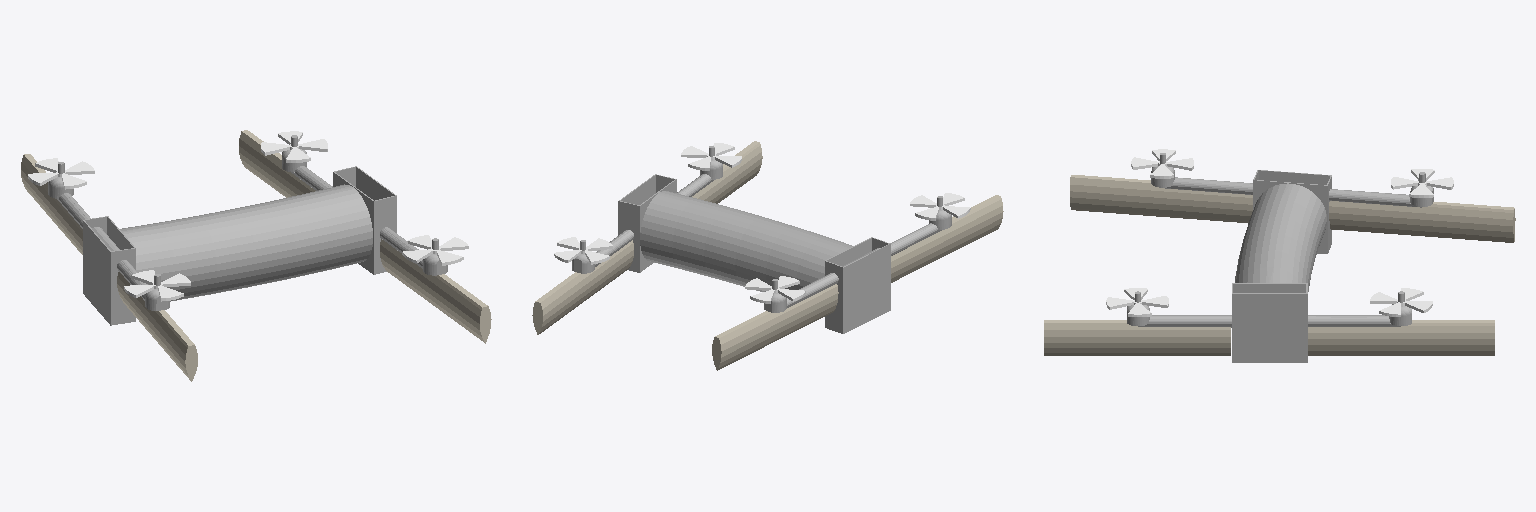
URDF robot description (drone_description):
<?xml version="1.0" encoding="utf-8"?>
<!-- This URDF was automatically created by SolidWorks to URDF Exporter! Originally created by [author] ([email redacted]) 
     Commit Version: 1.5.0-0-g9aa0fdb  Build Version: 1.5.7004.21443
     For more information, please see http://wiki.ros.org/sw_urdf_exporter -->
<robot
  name="drone_description">
  <link
    name="drone_body">
    <inertial>
      <origin
        xyz="0.00037727104002184 2.89864944904331E-05 -0.00750285109539086"
        rpy="0 0 0" />
      <mass
        value="0.357420415627526" />
      <inertia
        ixx="0.000438219852783832"
        ixy="0.000109200110248878"
        ixz="-3.73094379691416E-10"
        iyy="0.00167682905269243"
        iyz="2.35329923558303E-12"
        izz="0.0016915663631846" />
    </inertial>
    <visual>
      <origin
        xyz="0 0 0"
        rpy="0 0 0" />
      <geometry>
        <mesh
          filename="package://drone_description/meshes/drone_body.STL" />
      </geometry>
      <material
        name="">
        <color
          rgba="0.752941176470588 0.752941176470588 0.752941176470588 1" />
      </material>
    </visual>
    <collision>
      <origin
        xyz="0 0 0"
        rpy="0 0 0" />
      <geometry>
        <mesh
          filename="package://drone_description/meshes/drone_body.STL" />
      </geometry>
    </collision>
  </link>
  <link
    name="front_arm">
    <inertial>
      <origin
        xyz="-3.32815637438255E-07 0.00528847069891163 -4.23077371747294E-12"
        rpy="0 0 0" />
      <mass
        value="0.0488863352917366" />
      <inertia
        ixx="0.000132396833896061"
        ixy="-4.99567917336989E-13"
        ixz="-7.39033950292171E-13"
        iyy="0.000132377174520321"
        iyz="-2.47372363052085E-17"
        izz="2.60423234522648E-06" />
    </inertial>
    <visual>
      <origin
        xyz="0 0 0"
        rpy="0 0 0" />
      <geometry>
        <mesh
          filename="package://drone_description/meshes/front_arm.STL" />
      </geometry>
      <material
        name="">
        <color
          rgba="0.752941176470588 0.752941176470588 0.752941176470588 1" />
      </material>
    </visual>
    <collision>
      <origin
        xyz="0 0 0"
        rpy="0 0 0" />
      <geometry>
        <mesh
          filename="package://drone_description/meshes/front_arm.STL" />
      </geometry>
    </collision>
  </link>
  <joint
    name="front_arm_joint"
    type="continuous">
    <origin
      xyz="0.13275334064868 -0.00722327848964719 -0.00540264439683487"
      rpy="1.5707963267949 0 0" />
    <parent
      link="drone_body" />
    <child
      link="front_arm" />
    <axis
      xyz="0 0 -1" />
    <safety_controller
      k_velocity="0" />
  </joint>
  <link
    name="front_right_prop">
    <inertial>
      <origin
        xyz="2.77555756156289E-17 -2.77555756156289E-17 0.0015875"
        rpy="0 0 0" />
      <mass
        value="0.00504005698984341" />
      <inertia
        ixx="1.2716275291741E-06"
        ixy="3.37489689921635E-22"
        ixz="2.04585029939092E-22"
        iyy="1.27162752917409E-06"
        iyz="-1.00319883079063E-23"
        izz="2.53478723759932E-06" />
    </inertial>
    <visual>
      <origin
        xyz="0 0 0"
        rpy="0 0 0" />
      <geometry>
        <mesh
          filename="package://drone_description/meshes/front_right_prop.STL" />
      </geometry>
      <material
        name="">
        <color
          rgba="1 1 1 1" />
      </material>
    </visual>
    <collision>
      <origin
        xyz="0 0 0"
        rpy="0 0 0" />
      <geometry>
        <mesh
          filename="package://drone_description/meshes/front_right_prop.STL" />
      </geometry>
    </collision>
  </link>
  <joint
    name="front_right_prop_joint"
    type="continuous">
    <origin
      xyz="0 0.0190499999622372 0.1325"
      rpy="-1.5707963267949 0 6.29649045572343E-05" />
    <parent
      link="front_arm" />
    <child
      link="front_right_prop" />
    <axis
      xyz="0 0 1" />
    <safety_controller
      k_velocity="0" />
  </joint>
  <link
    name="front_left_prop">
    <inertial>
      <origin
        xyz="0 0 0.0015875"
        rpy="0 0 0" />
      <mass
        value="0.00504005698984341" />
      <inertia
        ixx="1.2716275291741E-06"
        ixy="-4.36751363427999E-22"
        ixz="2.2224016613827E-22"
        iyy="1.2716275291741E-06"
        iyz="2.10983562782874E-23"
        izz="2.53478723759932E-06" />
    </inertial>
    <visual>
      <origin
        xyz="0 0 0"
        rpy="0 0 0" />
      <geometry>
        <mesh
          filename="package://drone_description/meshes/front_left_prop.STL" />
      </geometry>
      <material
        name="">
        <color
          rgba="1 1 1 1" />
      </material>
    </visual>
    <collision>
      <origin
        xyz="0 0 0"
        rpy="0 0 0" />
      <geometry>
        <mesh
          filename="package://drone_description/meshes/front_left_prop.STL" />
      </geometry>
    </collision>
  </link>
  <joint
    name="front_left_prop_joint"
    type="continuous">
    <origin
      xyz="0 0.0190499999622375 -0.1325"
      rpy="-1.5707963267949 0 6.29649045572343E-05" />
    <parent
      link="front_arm" />
    <child
      link="front_left_prop" />
    <axis
      xyz="0 0 1" />
    <safety_controller
      k_velocity="0" />
  </joint>
  <link
    name="front_right_wing">
    <inertial>
      <origin
        xyz="-2.56871427684047E-07 -6.69619957455181E-07 8.55690921422909E-05"
        rpy="0 0 0" />
      <mass
        value="0.0106409229155552" />
      <inertia
        ixx="3.22240827607208E-05"
        ixy="8.34233188884897E-12"
        ixz="4.40330785279026E-13"
        iyy="1.00346951370682E-06"
        iyz="-2.44420885016909E-21"
        izz="3.14347766518031E-05" />
    </inertial>
    <visual>
      <origin
        xyz="0 0 0"
        rpy="0 0 0" />
      <geometry>
        <mesh
          filename="package://drone_description/meshes/front_right_wing.STL" />
      </geometry>
      <material
        name="">
        <color
          rgba="0.843137254901961 0.815686274509804 0.752941176470588 1" />
      </material>
    </visual>
    <collision>
      <origin
        xyz="0 0 0"
        rpy="0 0 0" />
      <geometry>
        <mesh
          filename="package://drone_description/meshes/front_right_wing.STL" />
      </geometry>
    </collision>
  </link>
  <joint
    name="front_right_wing_joint"
    type="fixed">
    <origin
      xyz="0 -0.0170179999662656 0.1325"
      rpy="-1.5707963267949 0 6.29649045571202E-05" />
    <parent
      link="front_arm" />
    <child
      link="front_right_wing" />
    <axis
      xyz="0 0 0" />
    <safety_controller
      k_velocity="0" />
  </joint>
  <link
    name="front_left_wing">
    <inertial>
      <origin
        xyz="2.56846023199975E-07 6.69619957371914E-07 8.55690884140337E-05"
        rpy="0 0 0" />
      <mass
        value="0.0106409229167305" />
      <inertia
        ixx="3.22240827618886E-05"
        ixy="8.34233188911367E-12"
        ixz="-4.43666864148229E-13"
        iyy="1.00346951311838E-06"
        iyz="1.74649412038412E-22"
        izz="3.14347766541992E-05" />
    </inertial>
    <visual>
      <origin
        xyz="0 0 0"
        rpy="0 0 0" />
      <geometry>
        <mesh
          filename="package://drone_description/meshes/front_left_wing.STL" />
      </geometry>
      <material
        name="">
        <color
          rgba="0.843137254901961 0.815686274509804 0.752941176470588 1" />
      </material>
    </visual>
    <collision>
      <origin
        xyz="0 0 0"
        rpy="0 0 0" />
      <geometry>
        <mesh
          filename="package://drone_description/meshes/front_left_wing.STL" />
      </geometry>
    </collision>
  </link>
  <joint
    name="front_left_wing_joint"
    type="fixed">
    <origin
      xyz="0 -0.0170179999662652 -0.1325"
      rpy="-1.5707963267949 0 6.29649045573601E-05" />
    <parent
      link="front_arm" />
    <child
      link="front_left_wing" />
    <axis
      xyz="0 0 0" />
    <safety_controller
      k_velocity="0" />
  </joint>
  <link
    name="back_arm">
    <inertial>
      <origin
        xyz="1.01226756657469E-05 0.00528846104534083 1.66339450026476E-10"
        rpy="0 0 0" />
      <mass
        value="0.0488863353584465" />
      <inertia
        ixx="0.000132396833691044"
        ixy="-3.93802397789225E-11"
        ixz="-7.55545830783203E-13"
        iyy="0.000132377174483336"
        iyz="2.44966822466015E-16"
        izz="2.60423235602468E-06" />
    </inertial>
    <visual>
      <origin
        xyz="0 0 0"
        rpy="0 0 0" />
      <geometry>
        <mesh
          filename="package://drone_description/meshes/back_arm.STL" />
      </geometry>
      <material
        name="">
        <color
          rgba="0.752941176470588 0.752941176470588 0.752941176470588 1" />
      </material>
    </visual>
    <collision>
      <origin
        xyz="0 0 0"
        rpy="0 0 0" />
      <geometry>
        <mesh
          filename="package://drone_description/meshes/back_arm.STL" />
      </geometry>
    </collision>
  </link>
  <joint
    name="back_arm_joint"
    type="continuous">
    <origin
      xyz="-0.13125 0.015874 0.014597"
      rpy="1.5708 0 -0.17453" />
    <parent
      link="drone_body" />
    <child
      link="back_arm" />
    <axis
      xyz="0 0 1" />
    <safety_controller
      k_velocity="0" />
  </joint>
  <link
    name="back_right_prop">
    <inertial>
      <origin
        xyz="0 0 0.0015875"
        rpy="0 0 0" />
      <mass
        value="0.00504005698984341" />
      <inertia
        ixx="1.2716275291741E-06"
        ixy="2.31610571514848E-22"
        ixz="-6.82424005356248E-24"
        iyy="1.2716275291741E-06"
        iyz="1.20367703823537E-22"
        izz="2.53478723759932E-06" />
    </inertial>
    <visual>
      <origin
        xyz="0 0 0"
        rpy="0 0 0" />
      <geometry>
        <mesh
          filename="package://drone_description/meshes/back_right_prop.STL" />
      </geometry>
      <material
        name="">
        <color
          rgba="1 1 1 1" />
      </material>
    </visual>
    <collision>
      <origin
        xyz="0 0 0"
        rpy="0 0 0" />
      <geometry>
        <mesh
          filename="package://drone_description/meshes/back_right_prop.STL" />
      </geometry>
    </collision>
  </link>
  <joint
    name="back_right_prop_joint"
    type="continuous">
    <origin
      xyz="3.64629030858155E-05 0.0190499651038184 0.1325"
      rpy="-1.5707963267949 0 -0.00191406432285098" />
    <parent
      link="back_arm" />
    <child
      link="back_right_prop" />
    <axis
      xyz="0 0 1" />
    <safety_controller
      k_velocity="0" />
  </joint>
  <link
    name="back_left_prop">
    <inertial>
      <origin
        xyz="0 0 0.0015875"
        rpy="0 0 0" />
      <mass
        value="0.00504005698984341" />
      <inertia
        ixx="1.2716275291741E-06"
        ixy="-2.64697796016969E-22"
        ixz="1.28212994945719E-23"
        iyy="1.2716275291741E-06"
        iyz="1.32348898008484E-22"
        izz="2.53478723759932E-06" />
    </inertial>
    <visual>
      <origin
        xyz="0 0 0"
        rpy="0 0 0" />
      <geometry>
        <mesh
          filename="package://drone_description/meshes/back_left_prop.STL" />
      </geometry>
      <material
        name="">
        <color
          rgba="1 1 1 1" />
      </material>
    </visual>
    <collision>
      <origin
        xyz="0 0 0"
        rpy="0 0 0" />
      <geometry>
        <mesh
          filename="package://drone_description/meshes/back_left_prop.STL" />
      </geometry>
    </collision>
  </link>
  <joint
    name="back_left_prop_joint"
    type="continuous">
    <origin
      xyz="3.6463E-05 0.01905 -0.1325"
      rpy="-1.5708 0 -0.0019141" />
    <parent
      link="back_arm" />
    <child
      link="back_left_prop" />
    <axis
      xyz="0 0 1" />
    <safety_controller
      k_velocity="0" />
  </joint>
  <link
    name="back_right_wing">
    <inertial>
      <origin
        xyz="1.21655134022181E-08 0 8.47138140920327E-05"
        rpy="0 0 0" />
      <mass
        value="0.0106410240095179" />
      <inertia
        ixx="3.22240827652041E-05"
        ixy="8.34233189020555E-12"
        ixz="4.93419365802072E-13"
        iyy="1.00346951237549E-06"
        iyz="-9.95408469631E-22"
        izz="3.14347766576976E-05" />
    </inertial>
    <visual>
      <origin
        xyz="0 0 0"
        rpy="0 0 0" />
      <geometry>
        <mesh
          filename="package://drone_description/meshes/back_right_wing.STL" />
      </geometry>
      <material
        name="">
        <color
          rgba="0.843137254901961 0.815686274509804 0.752941176470588 1" />
      </material>
    </visual>
    <collision>
      <origin
        xyz="0 0 0"
        rpy="0 0 0" />
      <geometry>
        <mesh
          filename="package://drone_description/meshes/back_right_wing.STL" />
      </geometry>
    </collision>
  </link>
  <joint
    name="back_right_wing_joint"
    type="fixed">
    <origin
      xyz="-3.25735267566463E-05 -0.0170179688260777 0.1325"
      rpy="-1.5707963267949 0 -0.00191406432285109" />
    <parent
      link="back_arm" />
    <child
      link="back_right_wing" />
    <axis
      xyz="0 0 0" />
    <safety_controller
      k_velocity="0" />
  </joint>
  <link
    name="back_left_wing">
    <inertial>
      <origin
        xyz="-1.13069331952875E-08 -5.55111512312578E-17 8.47139273855986E-05"
        rpy="0 0 0" />
      <mass
        value="0.0106410239738009" />
      <inertia
        ixx="3.22240827297183E-05"
        ixy="8.34233188905411E-12"
        ixz="-3.9203650451198E-13"
        iyy="1.00346953026033E-06"
        iyz="-1.47074005381635E-21"
        izz="3.14347765848837E-05" />
    </inertial>
    <visual>
      <origin
        xyz="0 0 0"
        rpy="0 0 0" />
      <geometry>
        <mesh
          filename="package://drone_description/meshes/back_left_wing.STL" />
      </geometry>
      <material
        name="">
        <color
          rgba="0.843137254901961 0.815686274509804 0.752941176470588 1" />
      </material>
    </visual>
    <collision>
      <origin
        xyz="0 0 0"
        rpy="0 0 0" />
      <geometry>
        <mesh
          filename="package://drone_description/meshes/back_left_wing.STL" />
      </geometry>
    </collision>
  </link>
  <joint
    name="back_left_wing_joint"
    type="fixed">
    <origin
      xyz="-3.25735267566463E-05 -0.0170179688260778 -0.1325"
      rpy="-1.5707963267949 0 -0.00191406432285109" />
    <parent
      link="back_arm" />
    <child
      link="back_left_wing" />
    <axis
      xyz="0 0 0" />
    <safety_controller
      k_velocity="0" />
  </joint>
</robot>

--- Facts derived from the render (not from the file) ---
The picture shows the robot from 3 angles, left to right: view 1: azimuth 30°, elevation 25°; view 2: azimuth 150°, elevation 25°; view 3: azimuth 270°, elevation 25°; orthographic projection.
Model drone_description with 11 links and 10 joints (6 continuous, 4 fixed), rooted at drone_body, posed all joints at 0.
Links seen in each view (by area): view 1: drone_body, front_right_wing, back_right_wing, front_left_wing, front_arm, back_left_wing, back_arm, front_right_prop, back_right_prop, back_left_prop, front_left_prop; view 2: drone_body, back_left_wing, back_right_wing, front_left_wing, back_arm, front_right_wing, front_arm, front_left_prop, back_right_prop, back_left_prop, front_right_prop; view 3: drone_body, front_right_wing, front_left_wing, back_left_wing, back_right_wing, front_arm, back_arm, front_left_prop, back_right_prop, front_right_prop, back_left_prop.
Boxes of the visible links, box(x1,y1,x2,y2) form: drone_body: box(83, 166, 396, 325); front_right_wing: box(380, 239, 491, 343); back_right_wing: box(117, 272, 197, 381); front_left_wing: box(239, 130, 315, 197); front_arm: box(282, 135, 447, 275); back_left_wing: box(21, 154, 82, 254); back_arm: box(48, 162, 169, 310); front_right_prop: box(402, 235, 468, 265); back_right_prop: box(124, 270, 190, 301); back_left_prop: box(28, 158, 94, 189); front_left_prop: box(261, 131, 327, 162); drone_body: box(618, 174, 890, 333); back_left_wing: box(712, 284, 838, 370); back_right_wing: box(891, 195, 1003, 282); front_left_wing: box(532, 240, 633, 334); back_arm: box(764, 196, 951, 312); front_right_wing: box(692, 141, 762, 203); front_arm: box(572, 146, 722, 273); front_left_prop: box(554, 237, 612, 264); back_right_prop: box(910, 193, 970, 220); back_left_prop: box(745, 276, 805, 303); front_right_prop: box(681, 143, 741, 170); drone_body: box(1232, 170, 1331, 362); front_right_wing: box(1044, 320, 1230, 355); front_left_wing: box(1308, 320, 1494, 355); back_left_wing: box(1329, 201, 1515, 242); back_right_wing: box(1070, 175, 1252, 222); front_arm: box(1127, 291, 1411, 327); back_arm: box(1151, 153, 1433, 207); front_left_prop: box(1370, 288, 1432, 316); back_right_prop: box(1131, 149, 1193, 178); front_right_prop: box(1106, 288, 1168, 316); back_left_prop: box(1391, 169, 1453, 197).
Bounding box of the posed robot: 0.3504 × 0.4737 × 0.0918 m (x, y, z).
Meshes: 11 distinct files referenced, 11 mesh visuals loaded (11 binary STL).